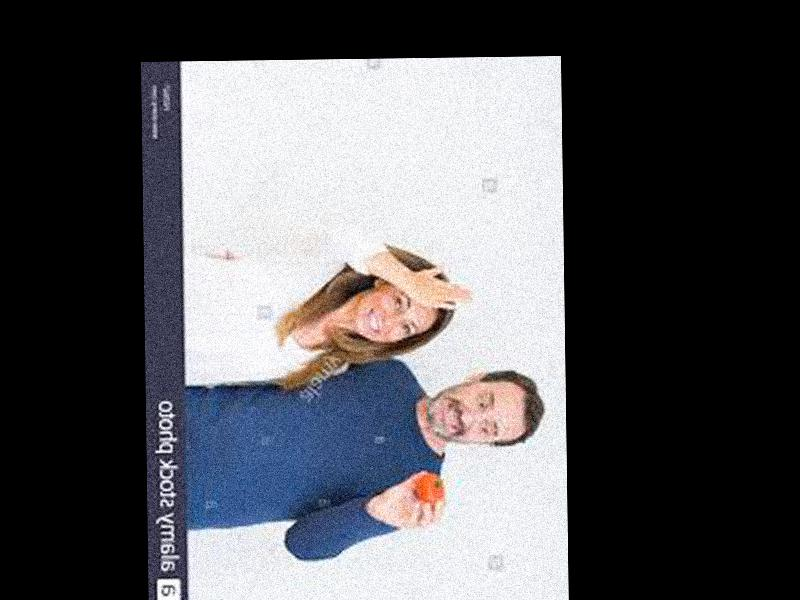Tomato: (416, 474, 447, 502)
